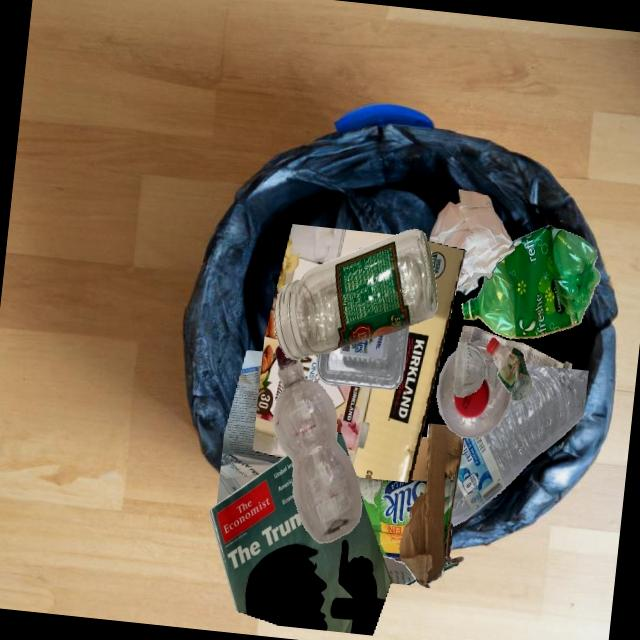cardboard: (297, 241, 465, 483), (252, 224, 395, 458), (356, 423, 464, 588)
glass: (273, 228, 437, 359), (453, 341, 498, 397)
paper: (209, 455, 391, 636), (216, 350, 283, 504), (428, 189, 514, 295), (456, 325, 571, 368)
plastic: (451, 364, 589, 525), (273, 345, 361, 543), (461, 224, 599, 338), (436, 349, 511, 438), (316, 326, 408, 389), (486, 337, 531, 401)
